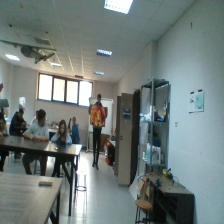fire-poster: (90, 105, 106, 127)
